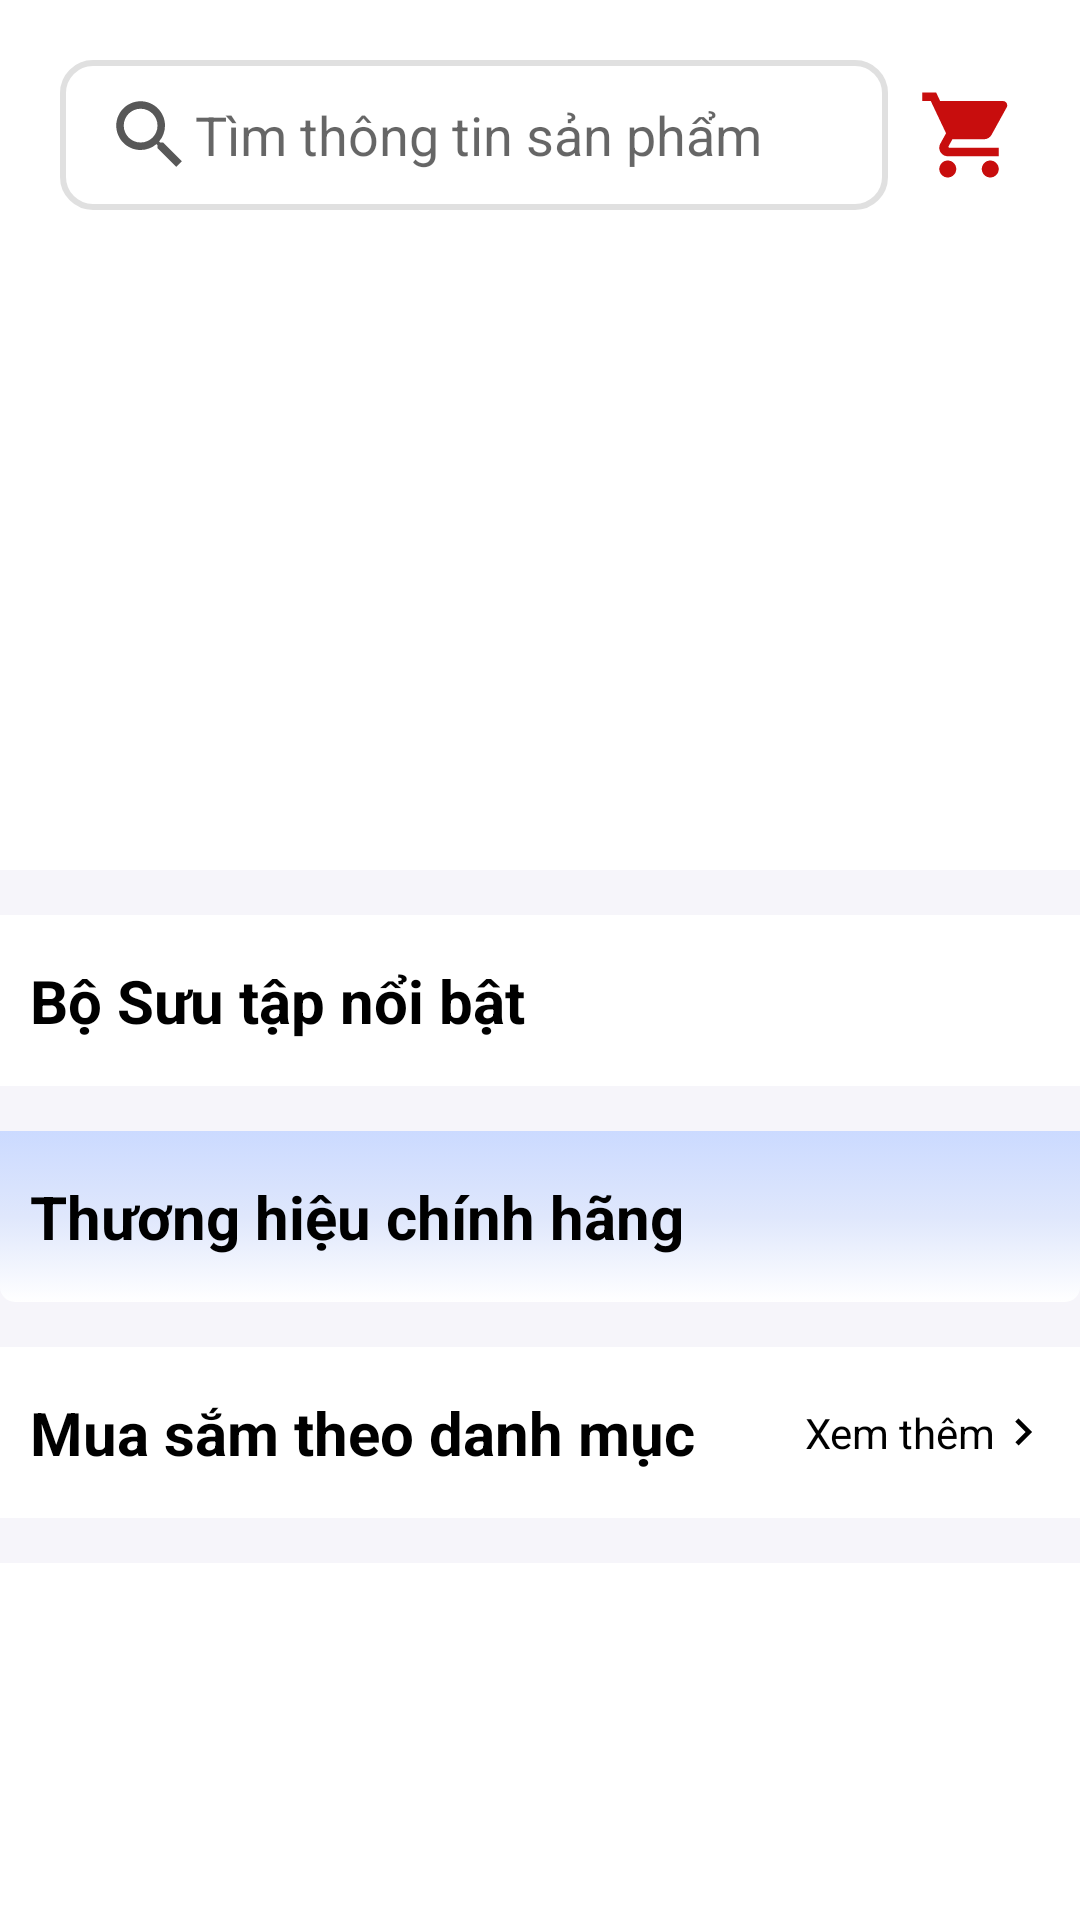

Icons on this 1080px×1920px Android screen, each with the point to tap as [x,y]:
cart: [965,135]
